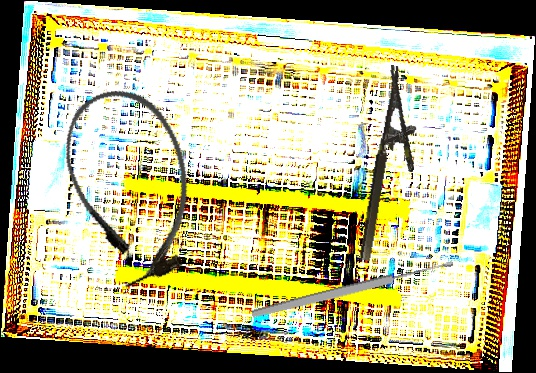Cannula: (49, 75, 213, 296)
Needle Holder: (357, 65, 431, 266)
Surgical Spoon: (250, 258, 455, 320)
